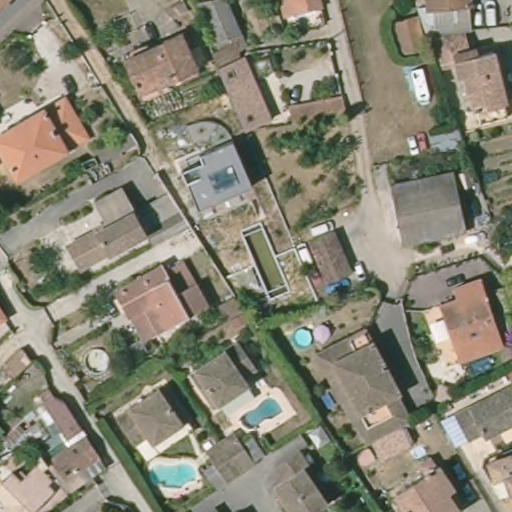pool: (147, 458, 200, 491), (238, 397, 280, 429), (293, 325, 313, 346)
